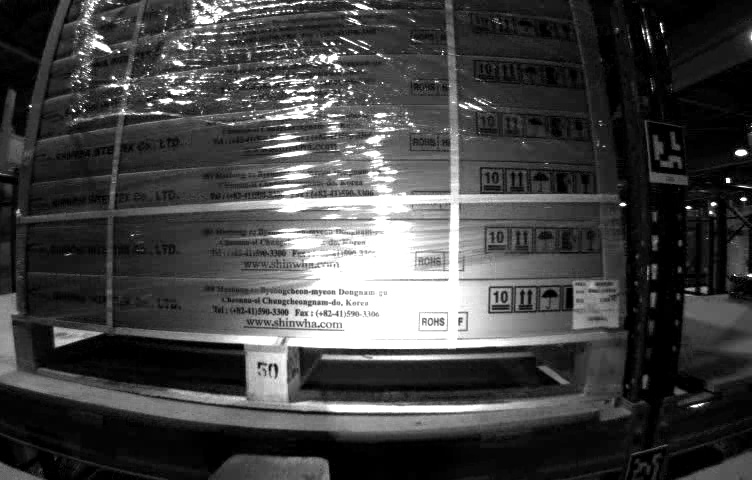True Barcode: (570, 278, 621, 329)
